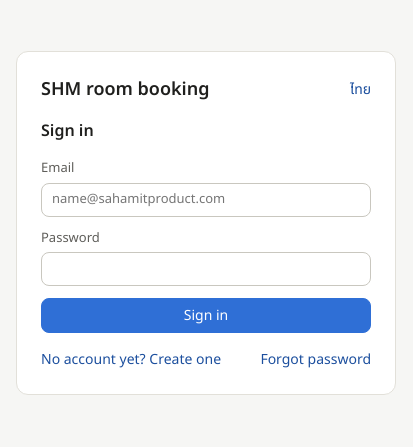
Test: AuthScreen sign-up › a disabled email is told so and no account is created
The width and height of the screenshot is (413, 447).
Click the button "No account yet? Create one" at (131, 360), box top-left (41, 349), bottom-right (221, 370)
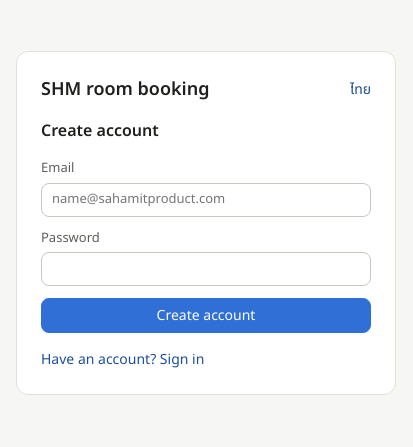
Type "ta@sahamitproduct.com" into the field labelled "Email" at (206, 200), box top-left (41, 182), bottom-right (371, 216)
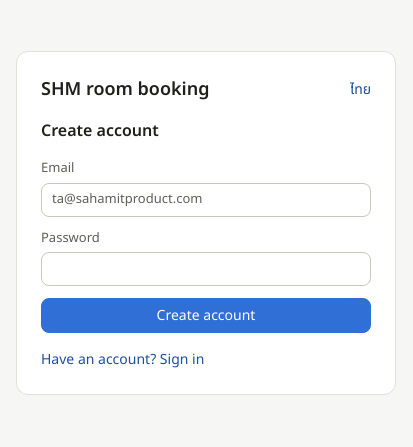
Type "secret1" into the password field labelled "Password" at (206, 269), box top-left (41, 252), bottom-right (371, 286)
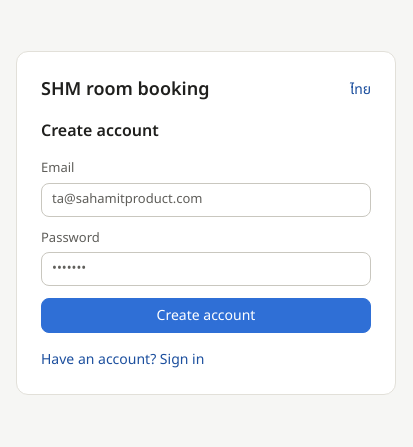
Submit the form, box top-left (41, 159), bottom-right (371, 333)
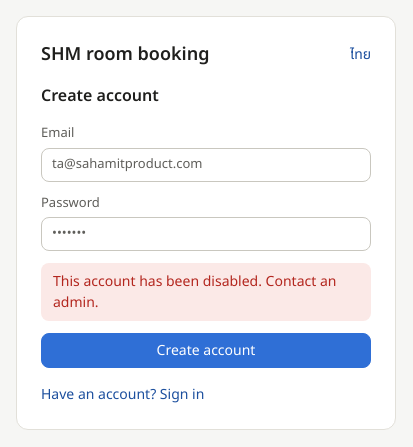
Result: the text "This account has been disabled. Contact an admin." is shown at top-left (41, 263), bottom-right (371, 321)
